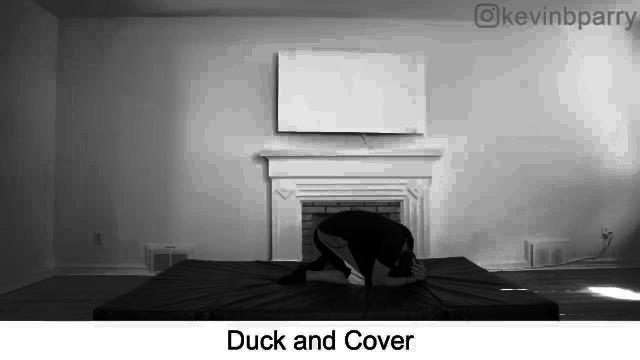jatuh: (270, 195, 438, 293)
